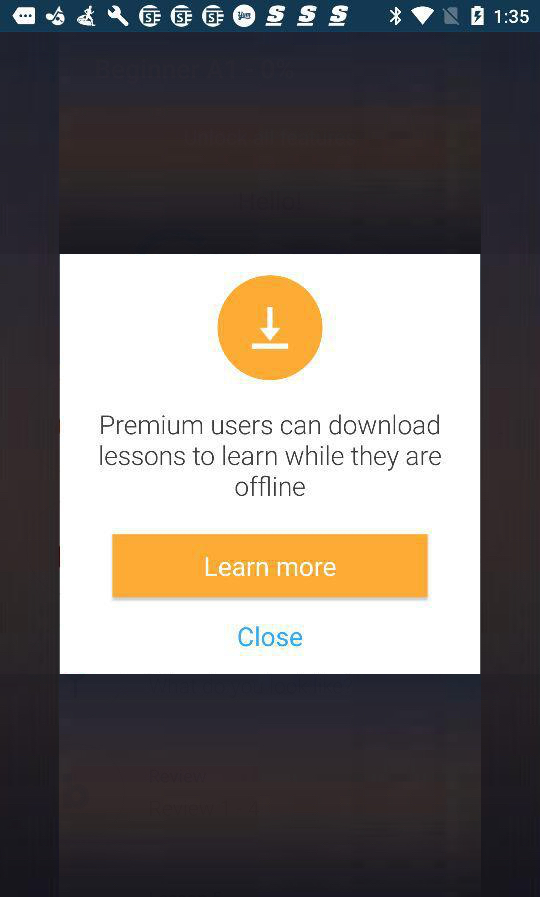Icon: (218, 276, 323, 380)
Modal: (61, 254, 481, 675)
Text: (100, 414, 441, 497), (238, 626, 303, 647)
TextButton: (112, 534, 428, 598)
UpperTaskBar: (1, 1, 540, 33)
